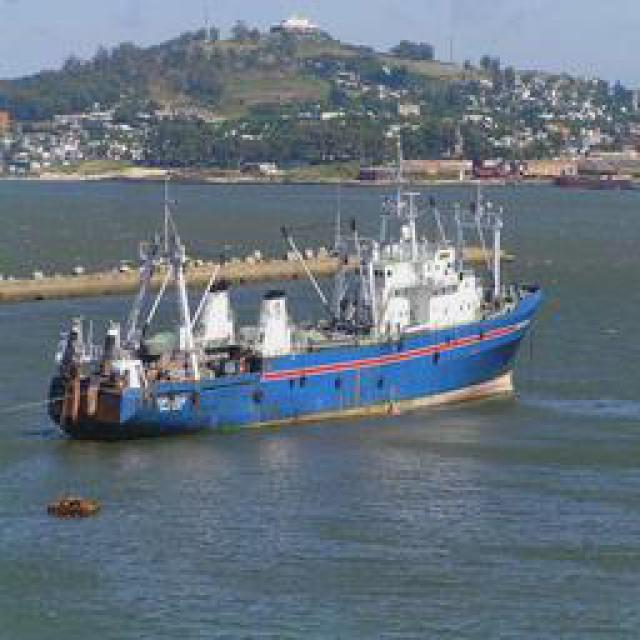Ship: (41, 195, 549, 448)
